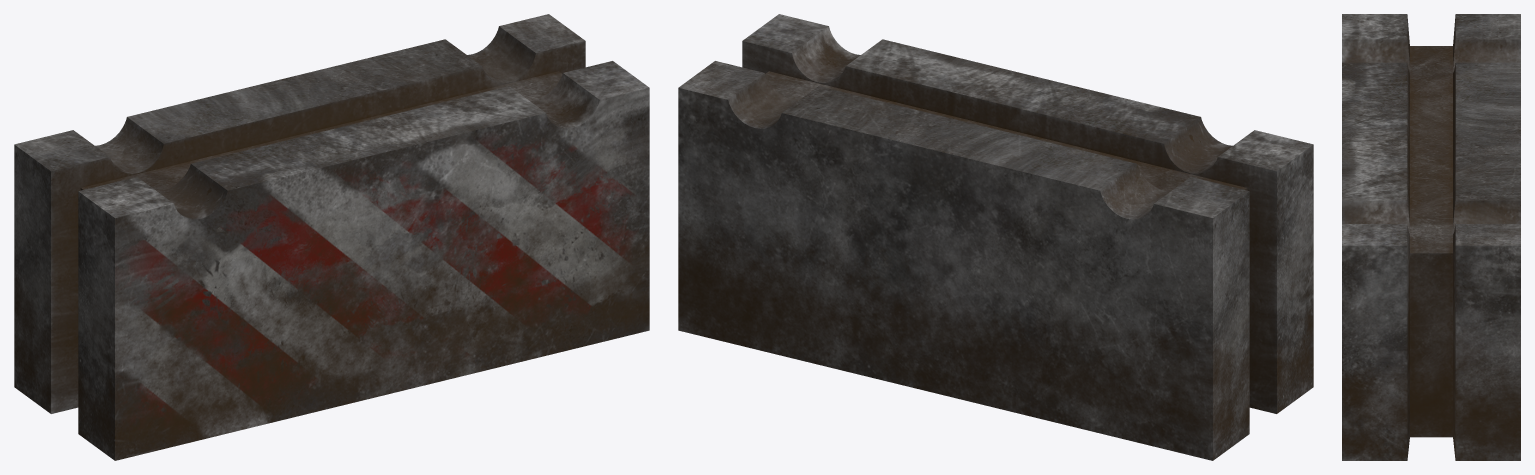
File: obstacle2.glb
3 renders of one model, left to right at view 1: azimuth 30°, elevation 25°; view 2: azimuth 150°, elevation 25°; view 3: azimuth 270°, elevation 25°, orthographic. The views are drawn at different scales.
Parts seen in each view (by area): view 1: Cube_Low; view 2: Cube_Low; view 3: Cube_Low.
Boxes of the visible parts, x1,y1,x2,y2 form: Cube_Low: [14, 14, 649, 460]; Cube_Low: [678, 14, 1313, 460]; Cube_Low: [1342, 14, 1520, 460].
Size of the model in its own units: 4.61 by 2 by 1.51.
1 material, 1 textured.
